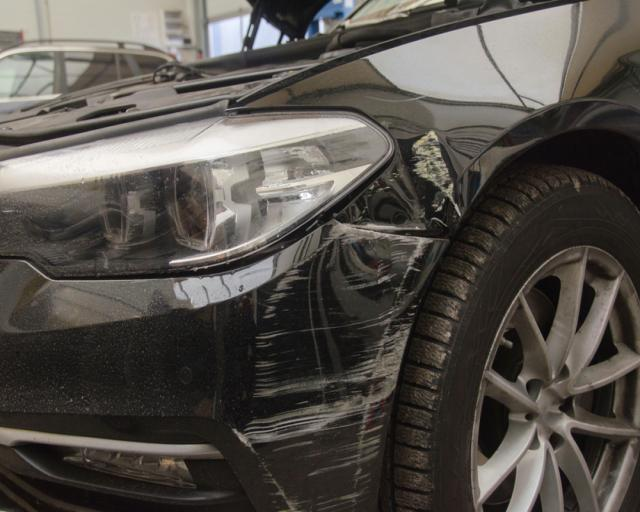scratch: (232, 222, 433, 512), (330, 124, 463, 233)
